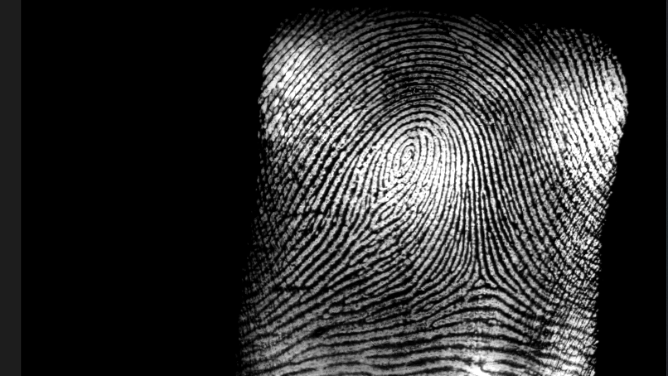nucelo: (393, 135, 418, 182)
verticilo: (466, 264, 499, 294), (358, 193, 387, 222)
